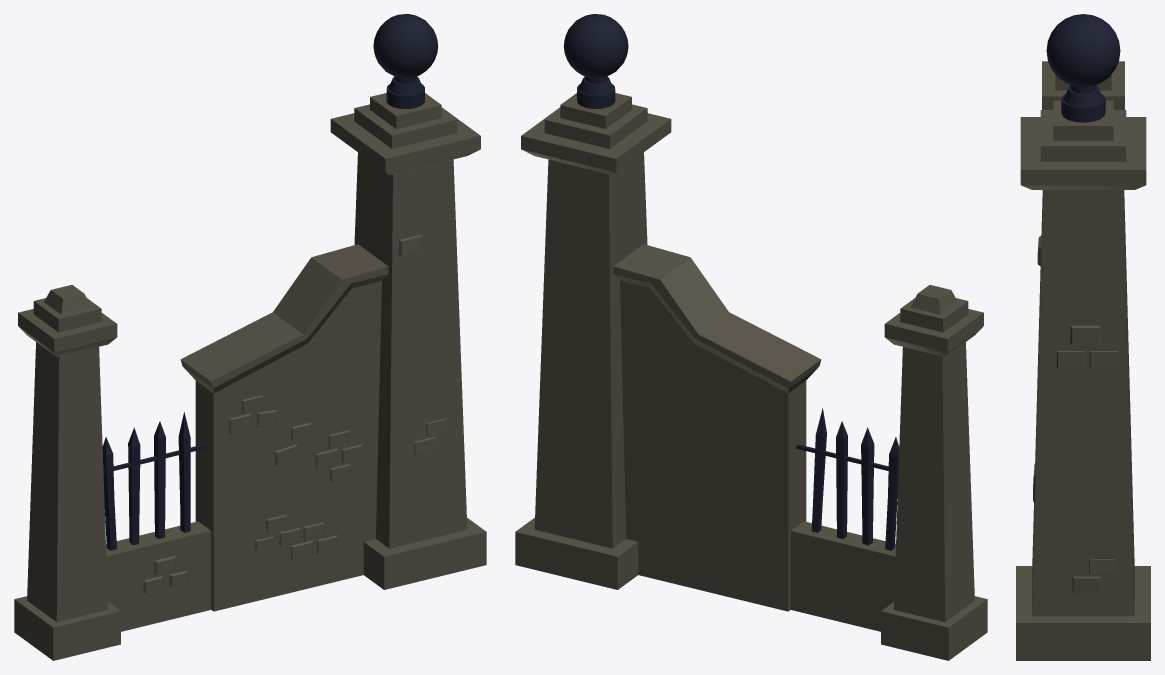
File: CemeteryGate.fbx
3 views of the same model, side by side, from view 1: azimuth 30°, elevation 25°; view 2: azimuth 150°, elevation 25°; view 3: azimuth 270°, elevation 25° (orthographic). The views are drawn at different scales.
Visible parts, largest first — view 1: CemeteryGate; view 2: CemeteryGate; view 3: CemeteryGate.
Boxes of the visible parts, box(x1,y1,x2,y2) form: CemeteryGate: box(14, 14, 486, 660); CemeteryGate: box(515, 14, 987, 660); CemeteryGate: box(1016, 14, 1150, 660).
Size of the model in its own units: 333 by 405 by 80.59.
